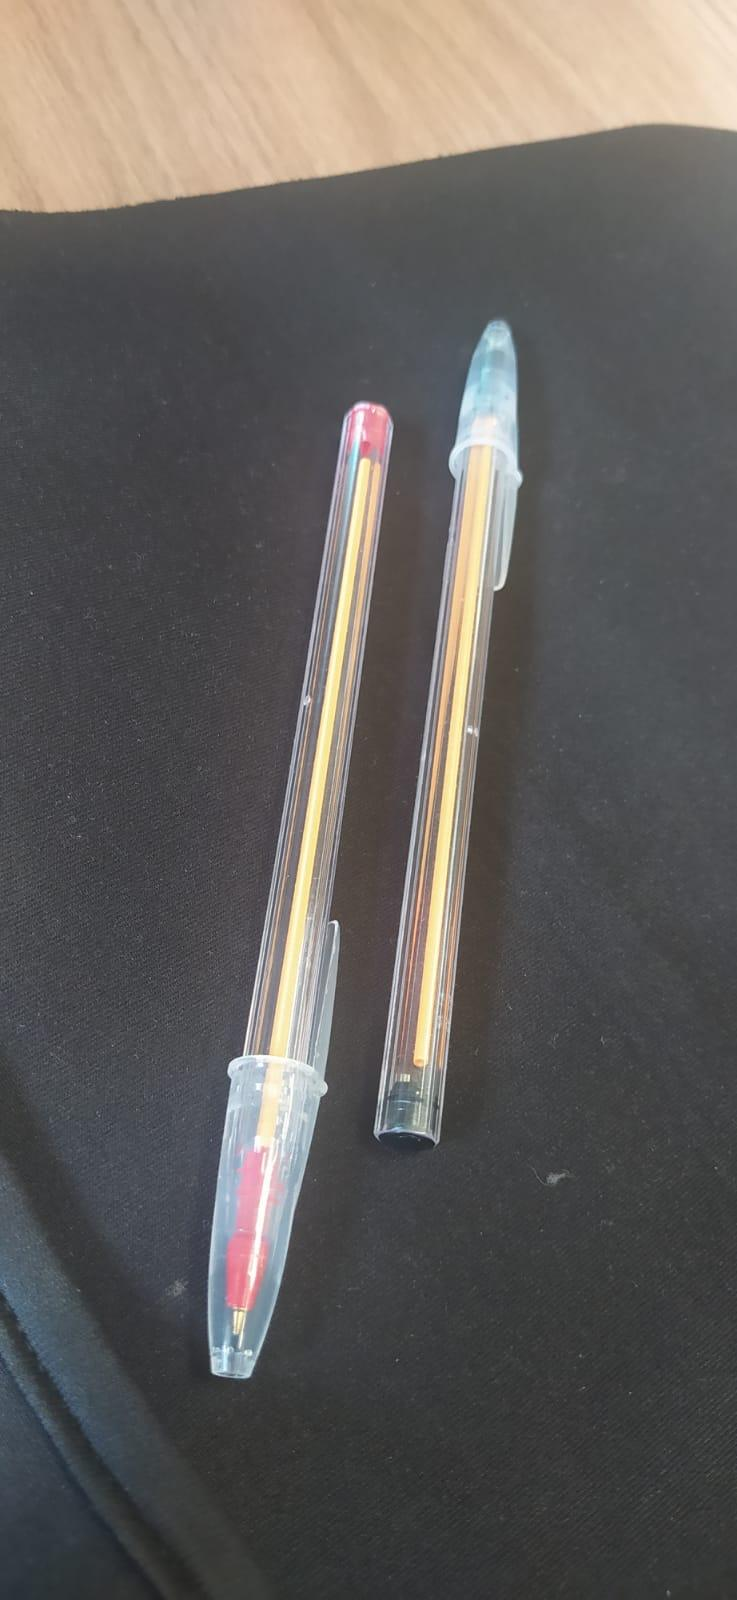pen: (197, 386, 394, 1381), (376, 310, 520, 1148)
